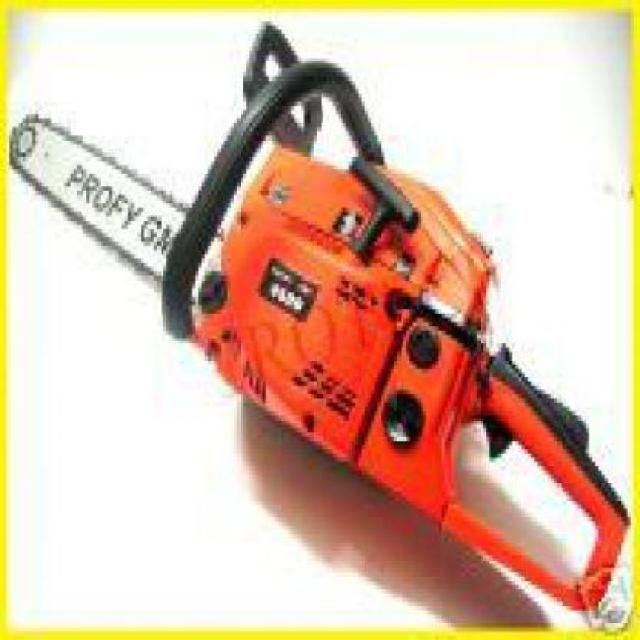Chainsaw: (12, 14, 632, 629)
